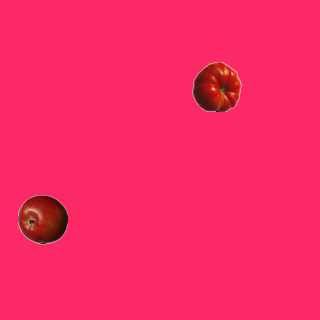Apple Braeburn: (17, 194, 67, 244)
Tomato 3: (191, 61, 241, 111)
